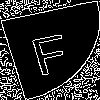F: (24, 25, 75, 77)
